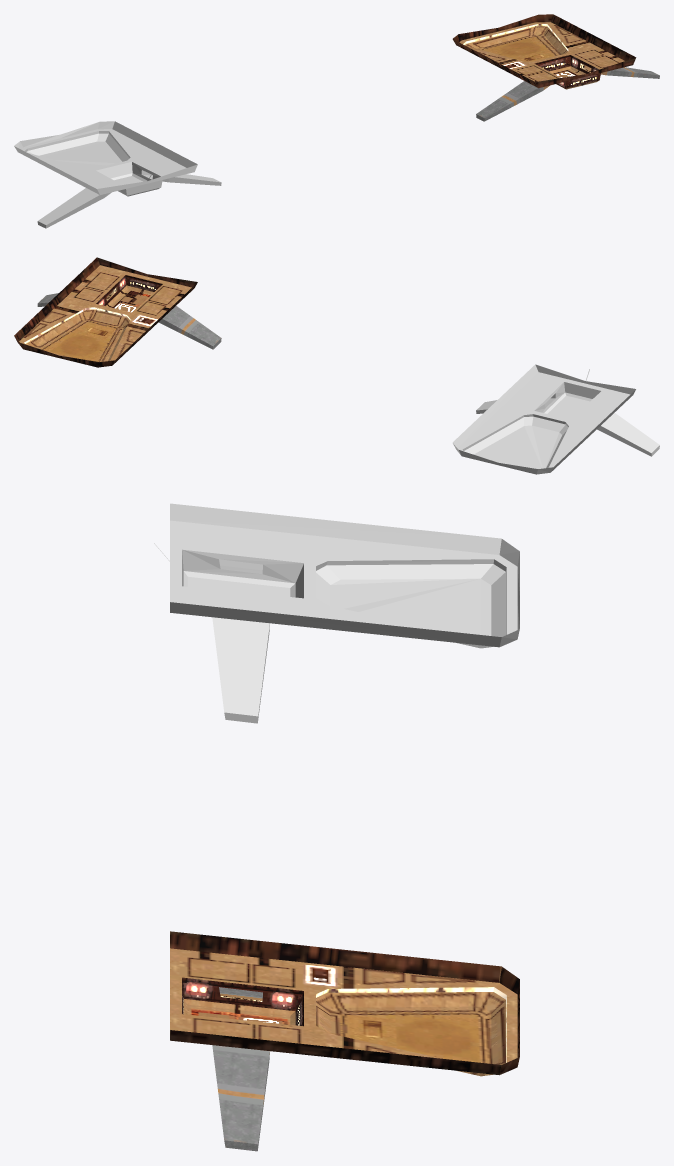
File: kpr_c_capital.dae
The picture shows the model from 3 angles, top to bottom: view 1: azimuth 30°, elevation 25°; view 2: azimuth 150°, elevation 25°; view 3: azimuth 270°, elevation 25°; orthographic projection. The views are drawn at different scales.
Parts seen in each view (by area): view 1: COL[Root], MULT[Root_mesh]_LOD[0]; view 2: COL[Root], MULT[Root_mesh]_LOD[0]; view 3: COL[Root], MULT[Root_mesh]_LOD[0].
Boxes of the visible parts, bbox=[...] form: COL[Root]: bbox=[14, 121, 221, 228]; MULT[Root_mesh]_LOD[0]: bbox=[452, 14, 659, 121]; COL[Root]: bbox=[452, 364, 659, 474]; MULT[Root_mesh]_LOD[0]: bbox=[14, 257, 221, 367]; COL[Root]: bbox=[154, 503, 519, 723]; MULT[Root_mesh]_LOD[0]: bbox=[170, 931, 519, 1151].
Bounding box in the file's own units: 687 × 50.75 × 177.
Materials: 1 (1 with a texture image).
